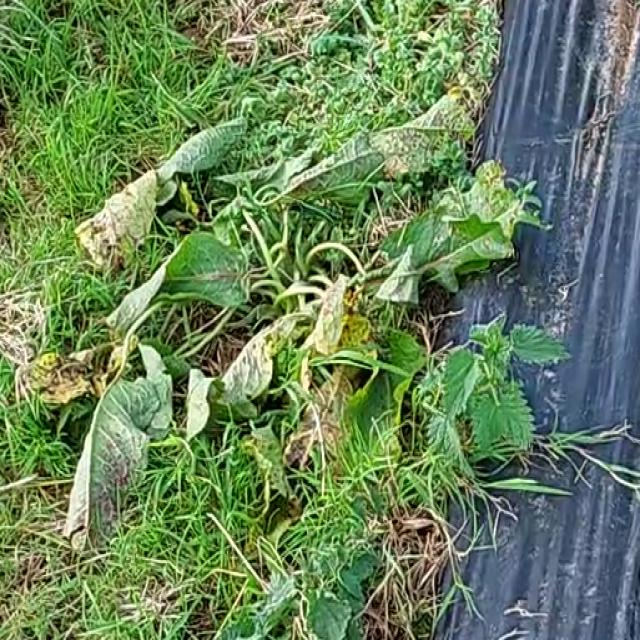organic waste: (59, 92, 499, 536)
